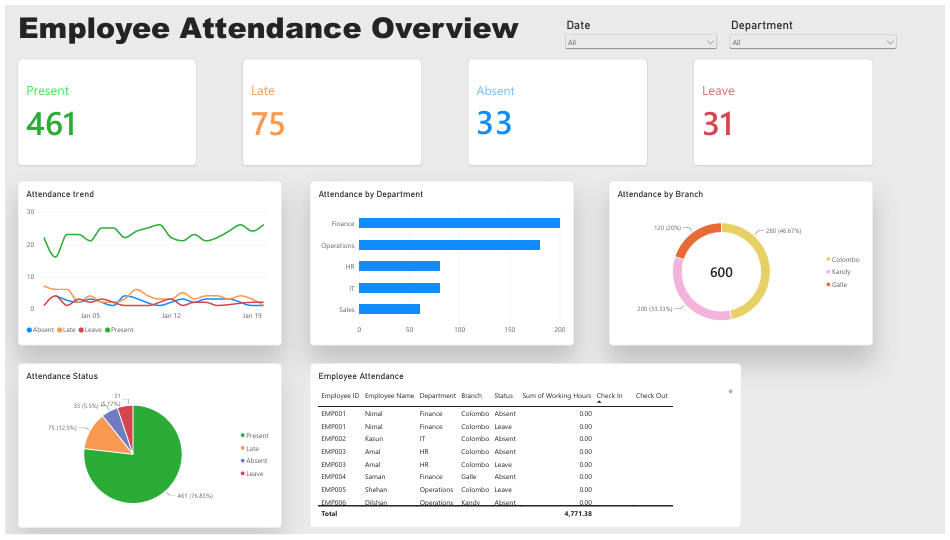

Layout of this report page (visuals, bound fields, positions):
{"tool":"powerbi","page":{"name":"Page 1","canvas":[1920,1080],"ordinal":0},"visuals":[{"type":"textbox","box":[10.3,0,658.7,279.9],"z":0},{"type":"textbox","box":[24.7,0,1047.7,185.2],"z":1000},{"type":"cardVisual","fields":{"Data":["CountNonNull(Sheet1.Employee ID)"]},"box":[24.7,109.1,364.3,218.2],"z":2000},{"type":"cardVisual","fields":{"Data":["CountNonNull(Sheet1.Employee ID)"]},"box":[944.9,109.1,366,218.2],"z":3000},{"type":"cardVisual","fields":{"Data":["CountNonNull(Sheet1.Employee ID)"]},"box":[484,109.1,366,218.2],"z":4000},{"type":"cardVisual","fields":{"Data":["CountNonNull(Sheet1.Employee ID)"]},"box":[1405.8,109.1,366,218.2],"z":5000},{"type":"lineChart","title":"Attendance trend","fields":{"Category":["Sheet1.Date"],"Series":["Sheet1.Status"],"Y":["CountNonNull(Sheet1.Employee ID)"]},"box":[24.7,358.1,539.3,335.5],"z":6000},{"type":"clusteredBarChart","title":"Attendance by Department","fields":{"Category":["Sheet1.Department"],"Y":["CountNonNull(Sheet1.Employee ID)"]},"box":[621.6,358.1,539,336],"z":7000},{"type":"donutChart","title":"Attendance by Branch","fields":{"Category":["Sheet1.Branch"],"Y":["CountNonNull(Sheet1.Employee ID)"]},"box":[1232.9,358.1,539,336],"z":8000},{"type":"pieChart","title":"Attendance Status","fields":{"Category":["Sheet1.Status"],"Y":["CountNonNull(Sheet1.Employee ID)"]},"box":[24.7,730.7,539,336],"z":9000},{"type":"tableEx","title":"Employee Attendance","fields":{"Values":["Sheet1.Employee ID","Sheet1.Employee Name","Sheet1.Department","Sheet1.Branch","Sheet1.Status","Sum(Sheet1.Working Hours)","Sheet1.Check In","Sheet1.Check Out"]},"box":[621.6,730.7,881,335.5],"z":10000},{"type":"slicer","fields":{"Values":["Sheet1.Date"]},"box":[1138.3,24.7,321.1,67.9],"z":11000},{"type":"slicer","fields":{"Values":["Sheet1.Department"]},"box":[1473.8,24.7,352,67.9],"z":12000}]}

Visuals, with their boxes in screenshot pixels (x1, y1, x2, y2), scaled from the page's 1920x1080 canvas onto the 950x540 screenshot:
textbox: select_region(5, 0, 331, 140)
textbox: select_region(12, 0, 531, 93)
cardVisual - CountNonNull(Sheet1.Employee ID): select_region(12, 55, 192, 164)
cardVisual - CountNonNull(Sheet1.Employee ID): select_region(468, 55, 649, 164)
cardVisual - CountNonNull(Sheet1.Employee ID): select_region(239, 55, 421, 164)
cardVisual - CountNonNull(Sheet1.Employee ID): select_region(696, 55, 877, 164)
"Attendance trend" lineChart: select_region(12, 179, 279, 347)
"Attendance by Department" clusteredBarChart: select_region(308, 179, 574, 347)
"Attendance by Branch" donutChart: select_region(610, 179, 877, 347)
"Attendance Status" pieChart: select_region(12, 365, 279, 533)
"Employee Attendance" tableEx: select_region(308, 365, 743, 533)
slicer - Sheet1.Date: select_region(563, 12, 722, 46)
slicer - Sheet1.Department: select_region(729, 12, 903, 46)
